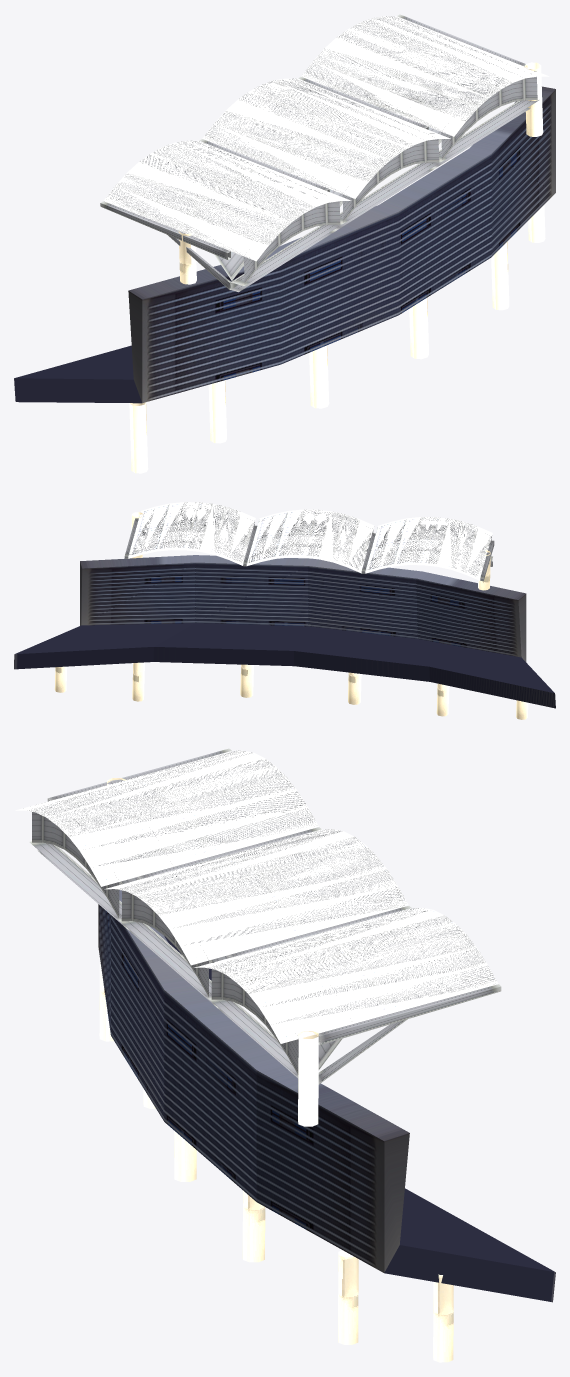
File: Sofa .fbx
The picture shows the model from 3 angles, top to bottom: view 1: azimuth 30°, elevation 25°; view 2: azimuth 150°, elevation 25°; view 3: azimuth 270°, elevation 25°; orthographic projection. The views are drawn at different scales.
Visible parts, largest first — view 1: Circle.028, Object_78.001, Object_59.001, Object_49.001, Object_39.001, Object_58.001, Object_44.004, Object_44.007, Object_44.008, Object_44.003, Object_44.006, Object_44.002 (+1 smaller); view 2: Circle.028, Object_78.001, Object_59.001, Object_58.001, Object_44.003, Object_44.008, Object_44.007, Object_44.006, Object_44.009; view 3: Object_78.001, Circle.028, Object_59.001, Object_49.001, Object_39.001, Object_58.001, Object_44.002, Object_44.003, Object_44.009, Object_44.008, Object_44.007, Object_48.001.
Part boxes in pixels (x1=…): Circle.028: x1=14, y1=86, x2=555, y2=403; Object_78.001: x1=103, y1=16, x2=549, y2=261; Object_59.001: x1=106, y1=16, x2=518, y2=257; Object_49.001: x1=214, y1=71, x2=537, y2=284; Object_39.001: x1=230, y1=99, x2=539, y2=292; Object_58.001: x1=100, y1=14, x2=525, y2=259; Object_44.004: x1=129, y1=402, x2=148, y2=473; Object_44.007: x1=309, y1=345, x2=329, y2=408; Object_44.008: x1=409, y1=298, x2=428, y2=359; Object_44.003: x1=491, y1=242, x2=509, y2=310; Object_44.006: x1=208, y1=380, x2=226, y2=443; Object_44.002: x1=524, y1=62, x2=543, y2=136; Circle.028: x1=14, y1=555, x2=555, y2=708; Object_78.001: x1=128, y1=502, x2=492, y2=580; Object_59.001: x1=129, y1=502, x2=491, y2=574; Object_58.001: x1=124, y1=518, x2=494, y2=581; Object_44.003: x1=132, y1=662, x2=144, y2=701; Object_44.008: x1=240, y1=664, x2=253, y2=697; Object_44.007: x1=348, y1=672, x2=361, y2=704; Object_44.006: x1=436, y1=683, x2=449, y2=716; Object_44.009: x1=54, y1=666, x2=67, y2=692; Object_78.001: x1=15, y1=750, x2=498, y2=1043; Circle.028: x1=98, y1=890, x2=555, y2=1302; Object_59.001: x1=29, y1=750, x2=496, y2=1023; Object_49.001: x1=32, y1=812, x2=341, y2=1074; Object_39.001: x1=29, y1=841, x2=298, y2=1078; Object_58.001: x1=47, y1=748, x2=501, y2=1045; Object_44.002: x1=298, y1=1031, x2=318, y2=1126; Object_44.003: x1=338, y1=1250, x2=358, y2=1344; Object_44.009: x1=433, y1=1274, x2=453, y2=1362; Object_44.008: x1=242, y1=1190, x2=265, y2=1262; Object_44.007: x1=174, y1=1131, x2=196, y2=1181; Object_48.001: x1=318, y1=1019, x2=407, y2=1084.
Size of the model in its own units: 12043 by 4943 by 6955.
Materials: 8 (8 with a texture image).
